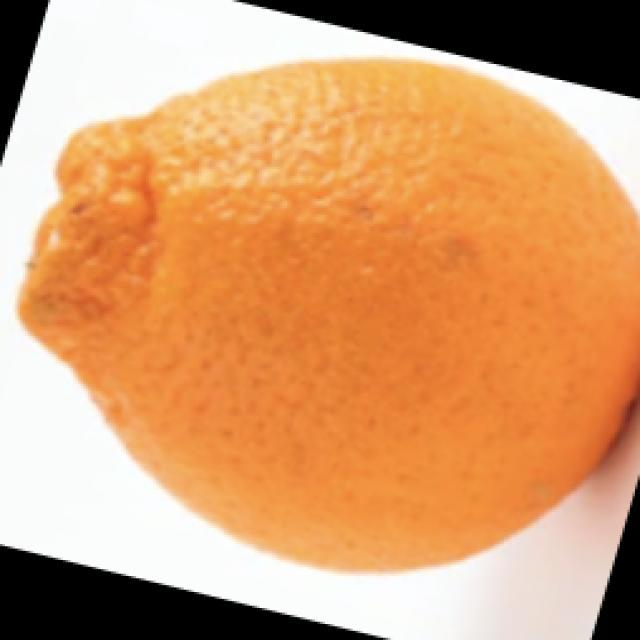Orange: (16, 55, 639, 574)
